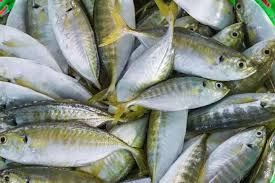Ikan Selar: (111, 23, 257, 80), (1, 123, 133, 174), (132, 74, 234, 114), (204, 120, 269, 180)
